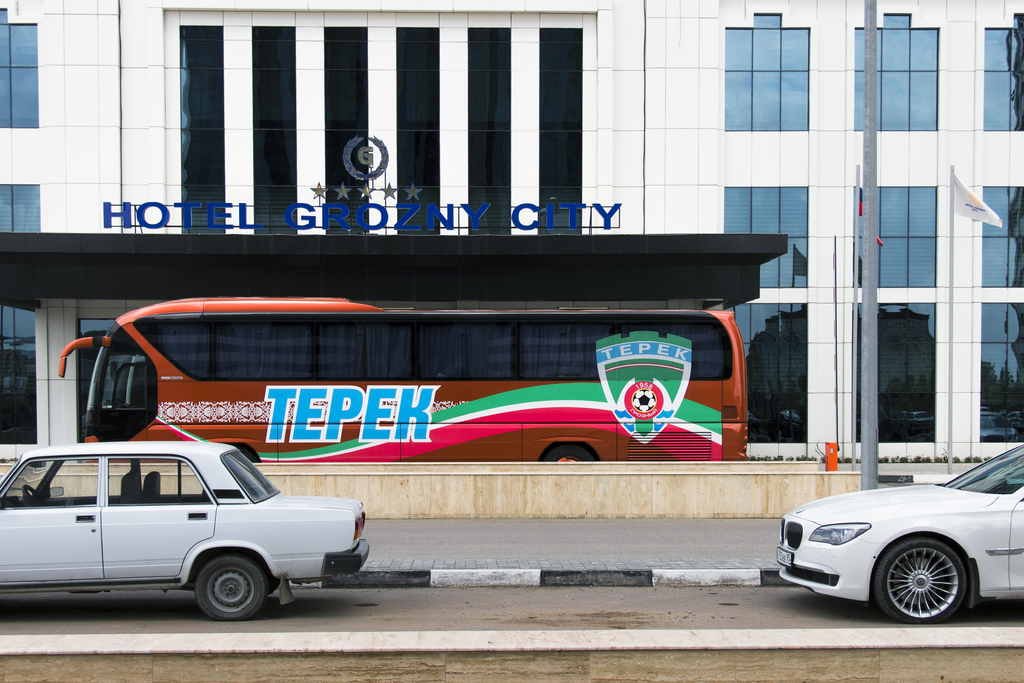Car: (0, 442, 390, 629), (776, 438, 1023, 624)
